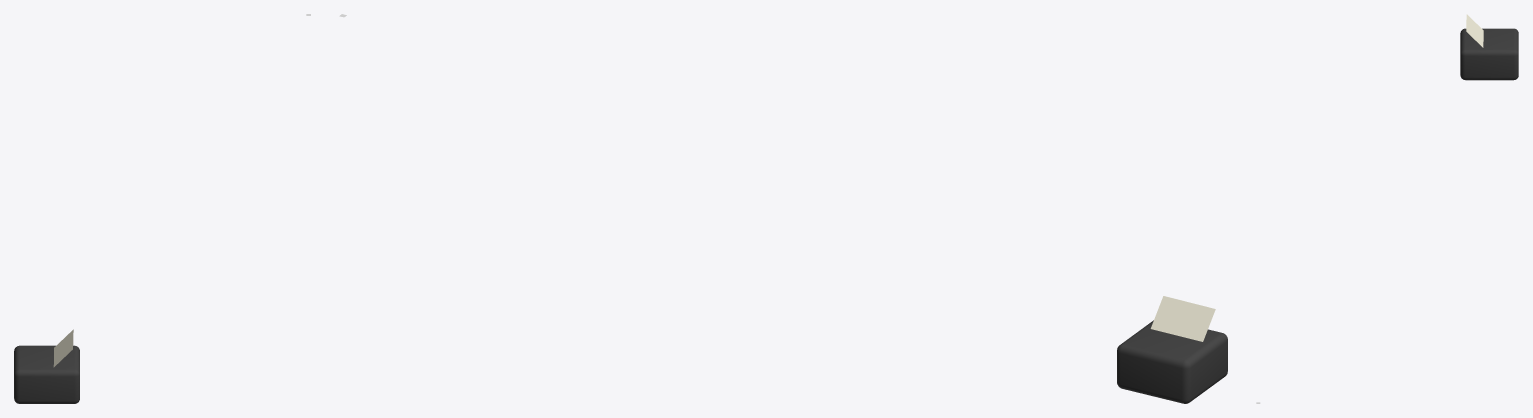
Rendered from printer.FBX.
3 views of the same model, side by side, from view 1: azimuth 90°, elevation 25°; view 2: azimuth 150°, elevation 25°; view 3: azimuth 270°, elevation 25° (orthographic). The views are drawn at different scales.
Visible parts, largest first — view 1: ChamferBox001, Plane001; view 2: ChamferBox001, Plane001; view 3: ChamferBox001, Plane001.
Boxes of the visible parts, box(x1,y1,x2,y2) form: ChamferBox001: box(14, 345, 79, 403); Plane001: box(53, 329, 73, 367); ChamferBox001: box(1117, 320, 1227, 403); Plane001: box(1150, 296, 1215, 341); ChamferBox001: box(1460, 28, 1518, 80); Plane001: box(1466, 14, 1483, 47).
Size of the model in its own units: 4918 by 309 by 1574.
